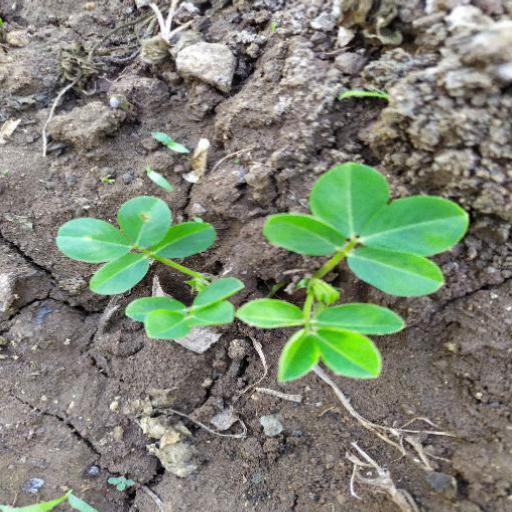crop: (49, 155, 476, 403)
